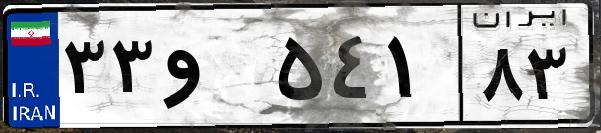1: (385, 28, 445, 110)
3: (57, 26, 110, 100), (525, 38, 570, 115), (110, 28, 158, 98)
4: (330, 28, 385, 110)
5: (270, 28, 330, 110)
8: (475, 38, 525, 113)
و: (158, 20, 270, 120)
